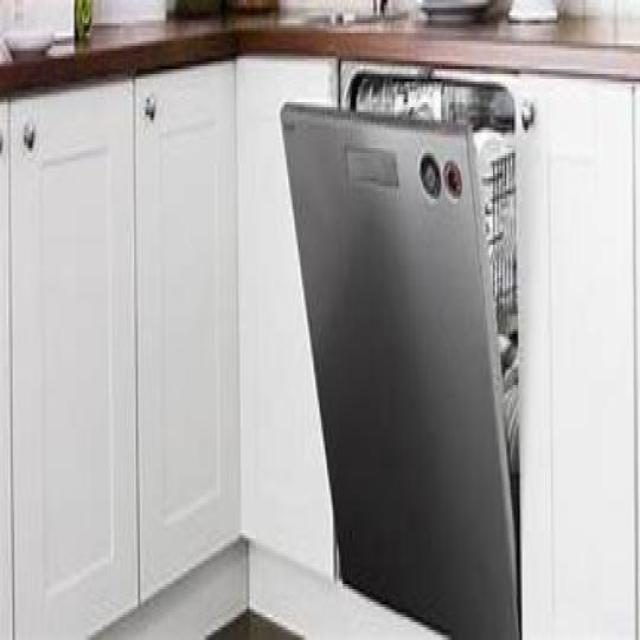dishwasher: (278, 61, 522, 638)
